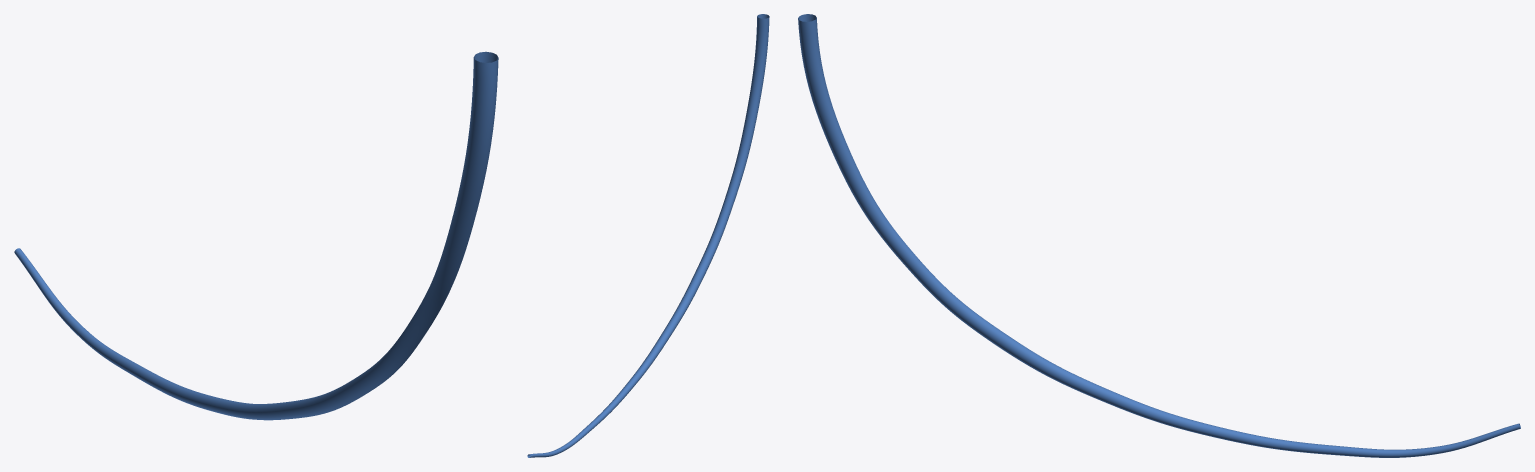
3 views of the same model, side by side, from view 1: azimuth 30°, elevation 25°; view 2: azimuth 150°, elevation 25°; view 3: azimuth 270°, elevation 25° (orthographic). The views are drawn at different scales.
Visible parts, largest first — view 1: 阴茎背浅静脉; view 2: 阴茎背浅静脉; view 3: 阴茎背浅静脉.
Boxes of the visible parts, <box> form: 阴茎背浅静脉: <box>14,51,498,420</box>; 阴茎背浅静脉: <box>527,14,769,457</box>; 阴茎背浅静脉: <box>798,14,1520,457</box>.
Size of the model in its own units: 0.00295 by 0.0759 by 0.113.
